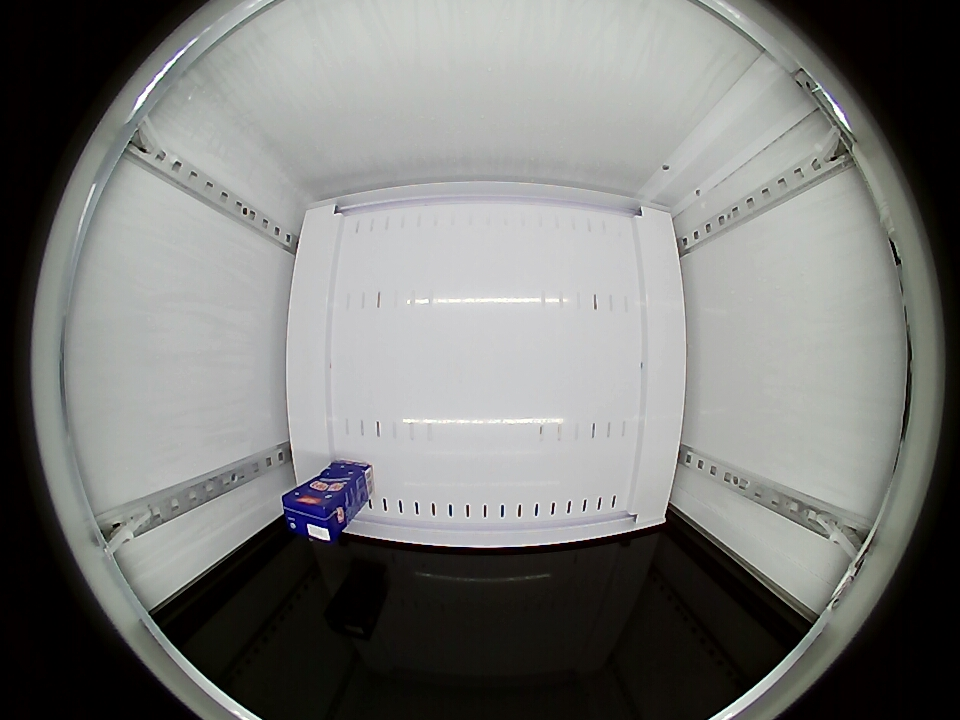bingqilinniunai: (280, 484, 349, 542)
